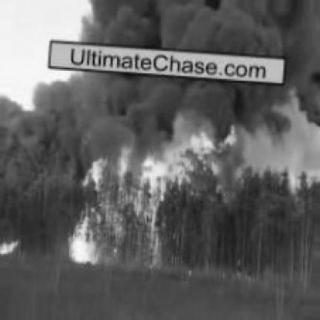Smoke: (28, 3, 311, 146)
